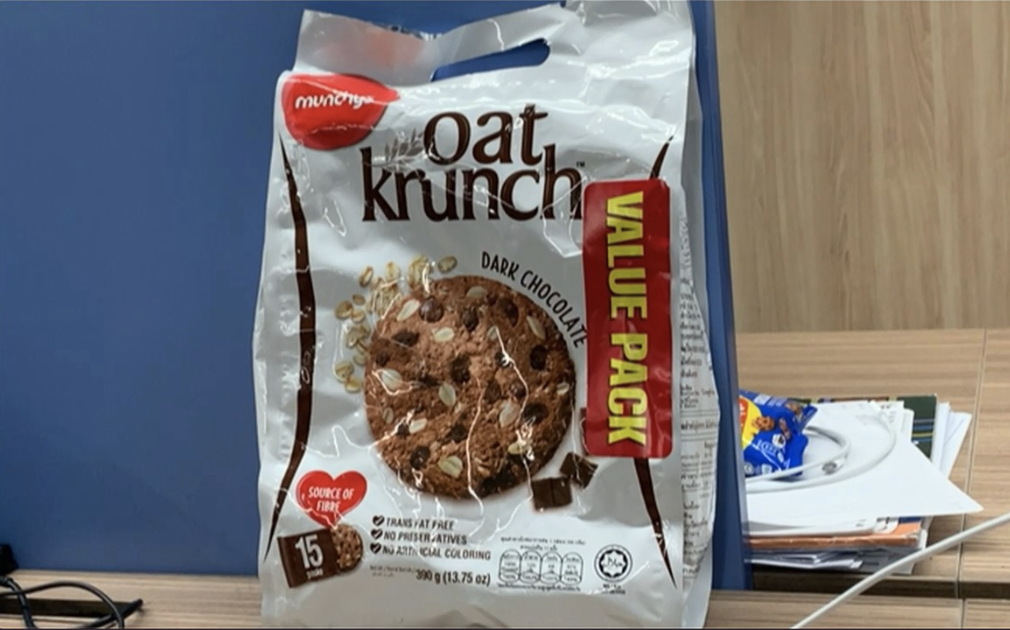cookies_450g: (295, 89, 665, 595)
